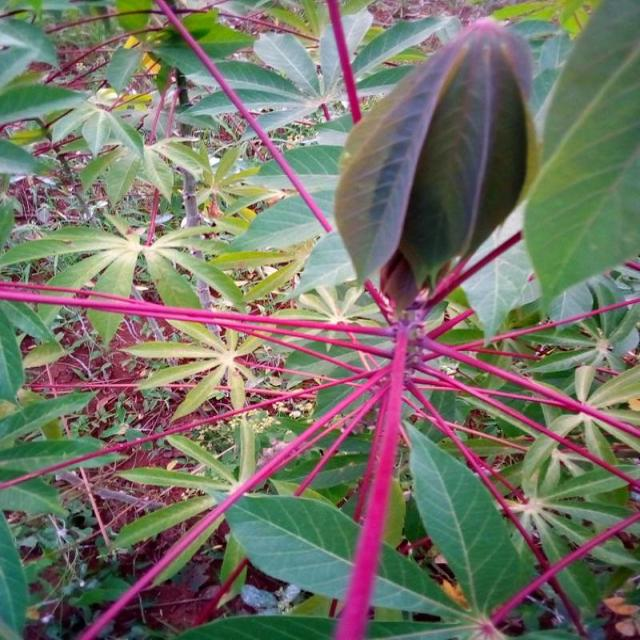cassava leaf: (332, 16, 539, 311), (522, 0, 640, 320), (401, 415, 538, 622)
